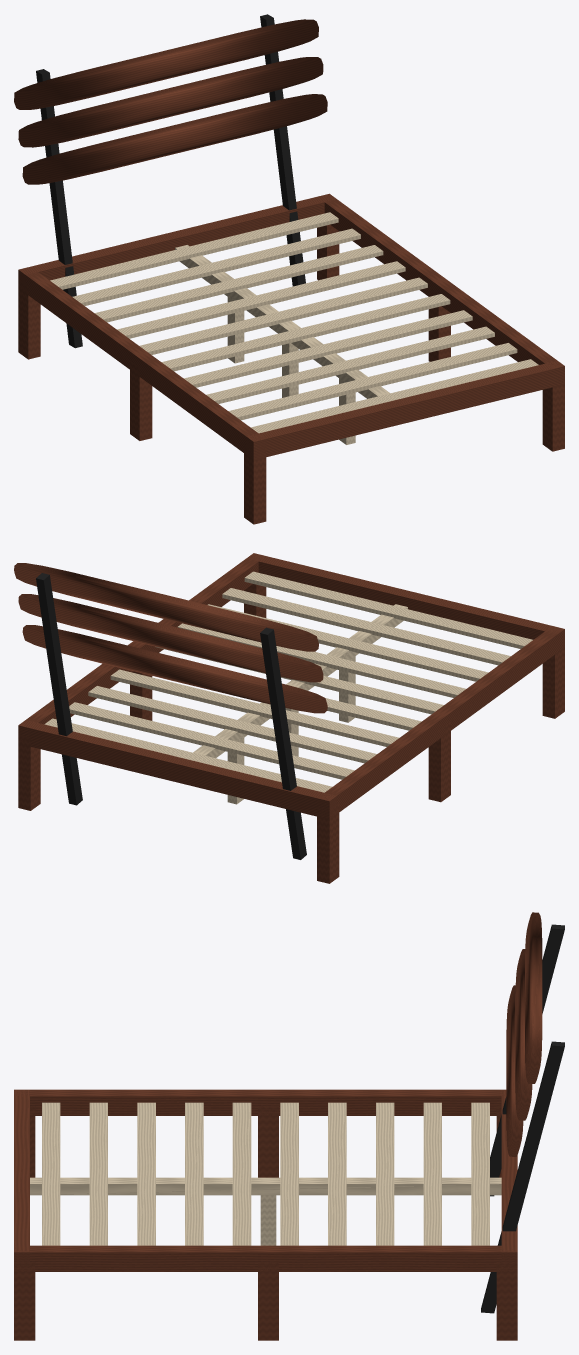
3 renders of one model, top to bottom at view 1: azimuth 30°, elevation 25°; view 2: azimuth 150°, elevation 25°; view 3: azimuth 270°, elevation 25°, orthographic. The views are drawn at different scales.
Visible parts, largest first — view 1: 28 headboard_slat_middle, 27 headboard_slat_bottom, 29 headboard_slat_top, 1 front_rail, 3 left_rail, 2 back_rail, 4 right_rail, 15 slat_1, 20 slat_6, 23 slat_9, 18 slat_4, 21 slat_7 (+14 smaller); view 2: 2 back_rail, 3 left_rail, 29 headboard_slat_top, 28 headboard_slat_middle, 27 headboard_slat_bottom, 1 front_rail, 24 slat_10, 23 slat_9, 17 slat_3, 18 slat_4, 16 slat_2, 4 right_rail (+14 smaller); view 3: 4 right_rail, 3 left_rail, 11 center_support_beam, 26 headboard_post_right, 1 front_rail, 20 slat_6, 29 headboard_slat_top, 15 slat_1, 18 slat_4, 19 slat_5, 21 slat_7, 22 slat_8 (+13 smaller).
Boxes of the visible parts, x1=… form: 28 headboard_slat_middle: x1=18, y1=57, x2=323, y2=147; 27 headboard_slat_bottom: x1=22, y1=94, x2=327, y2=184; 29 headboard_slat_top: x1=14, y1=19, x2=318, y2=109; 1 front_rail: x1=246, y1=360, x2=564, y2=460; 3 left_rail: x1=18, y1=268, x2=266, y2=459; 2 back_rail: x1=18, y1=194, x2=336, y2=292; 4 right_rail: x1=323, y1=197, x2=563, y2=383; 15 slat_1: x1=50, y1=212, x2=338, y2=289; 20 slat_6: x1=161, y1=294, x2=450, y2=371; 23 slat_9: x1=228, y1=343, x2=517, y2=420; 18 slat_4: x1=117, y1=261, x2=405, y2=338; 21 slat_7: x1=184, y1=310, x2=472, y2=387; 2 back_rail: x1=18, y1=720, x2=336, y2=819; 3 left_rail: x1=317, y1=626, x2=564, y2=819; 29 headboard_slat_top: x1=14, y1=563, x2=318, y2=651; 28 headboard_slat_middle: x1=18, y1=594, x2=323, y2=682; 27 headboard_slat_bottom: x1=22, y1=625, x2=327, y2=713; 1 front_rail: x1=246, y1=553, x2=564, y2=648; 24 slat_10: x1=244, y1=571, x2=532, y2=648; 23 slat_9: x1=222, y1=588, x2=510, y2=665; 17 slat_3: x1=88, y1=686, x2=376, y2=763; 18 slat_4: x1=110, y1=669, x2=399, y2=746; 16 slat_2: x1=69, y1=702, x2=354, y2=779; 4 right_rail: x1=18, y1=553, x2=265, y2=745; 4 right_rail: x1=14, y1=1245, x2=517, y2=1271; 3 left_rail: x1=14, y1=1089, x2=505, y2=1115; 11 center_support_beam: x1=30, y1=1177, x2=501, y2=1195; 26 headboard_post_right: x1=481, y1=1041, x2=564, y2=1313; 1 front_rail: x1=14, y1=1089, x2=29, y2=1271; 20 slat_6: x1=232, y1=1102, x2=251, y2=1245; 29 headboard_slat_top: x1=525, y1=912, x2=542, y2=1083; 15 slat_1: x1=471, y1=1102, x2=489, y2=1245; 18 slat_4: x1=328, y1=1102, x2=346, y2=1245; 19 slat_5: x1=280, y1=1102, x2=298, y2=1245; 21 slat_7: x1=185, y1=1102, x2=203, y2=1245; 22 slat_8: x1=137, y1=1102, x2=155, y2=1245.
Size of the model in its own units: 1.27 by 1 by 1.82.
Materials: 3 (2 with a texture image).
